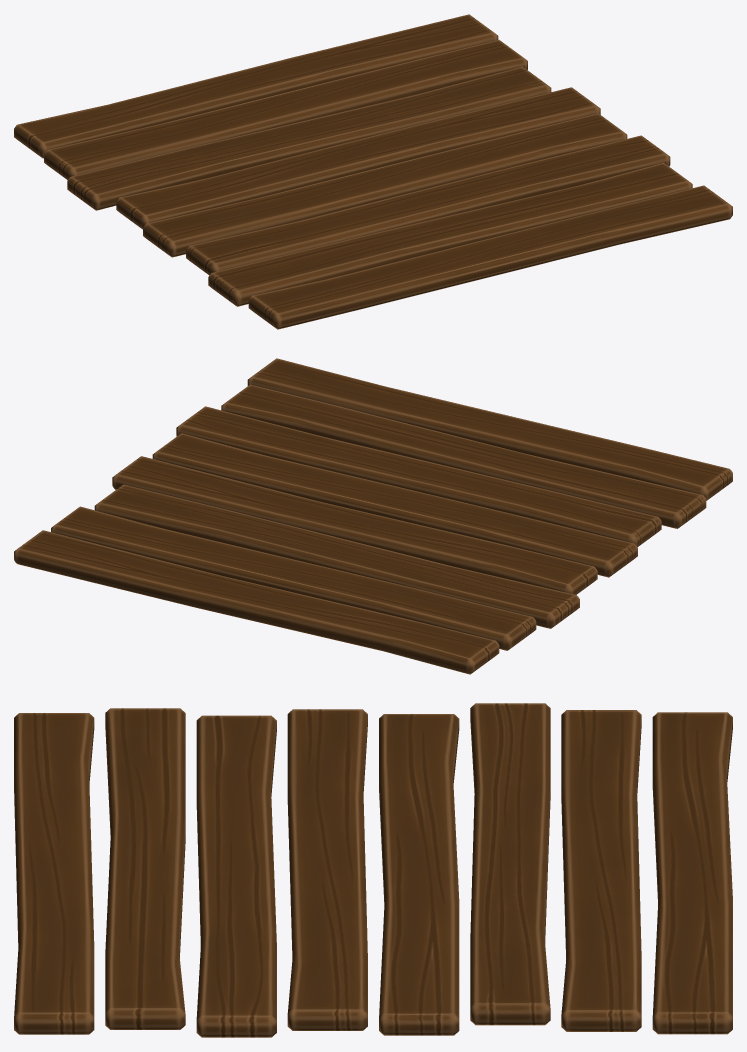
The model's file is planks.2.fbx.
3 views of the same model, one above another, from view 1: azimuth 30°, elevation 25°; view 2: azimuth 150°, elevation 25°; view 3: azimuth 270°, elevation 25° (orthographic). The views are drawn at different scales.
Visible parts, largest first — view 1: Planks.2; view 2: Planks.2; view 3: Planks.2.
Part boxes in pixels (x1=…): Planks.2: x1=14, y1=14, x2=732, y2=329; Planks.2: x1=14, y1=358, x2=732, y2=674; Planks.2: x1=14, y1=703, x2=732, y2=1037.
Size of the model in its own units: 206 by 6.26 by 197.
